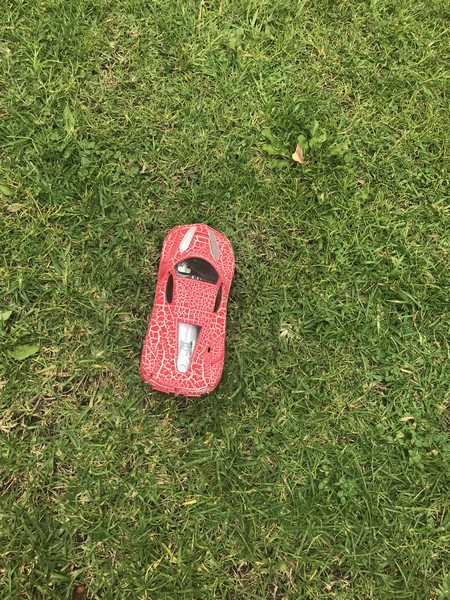RC: (138, 224, 238, 399)
